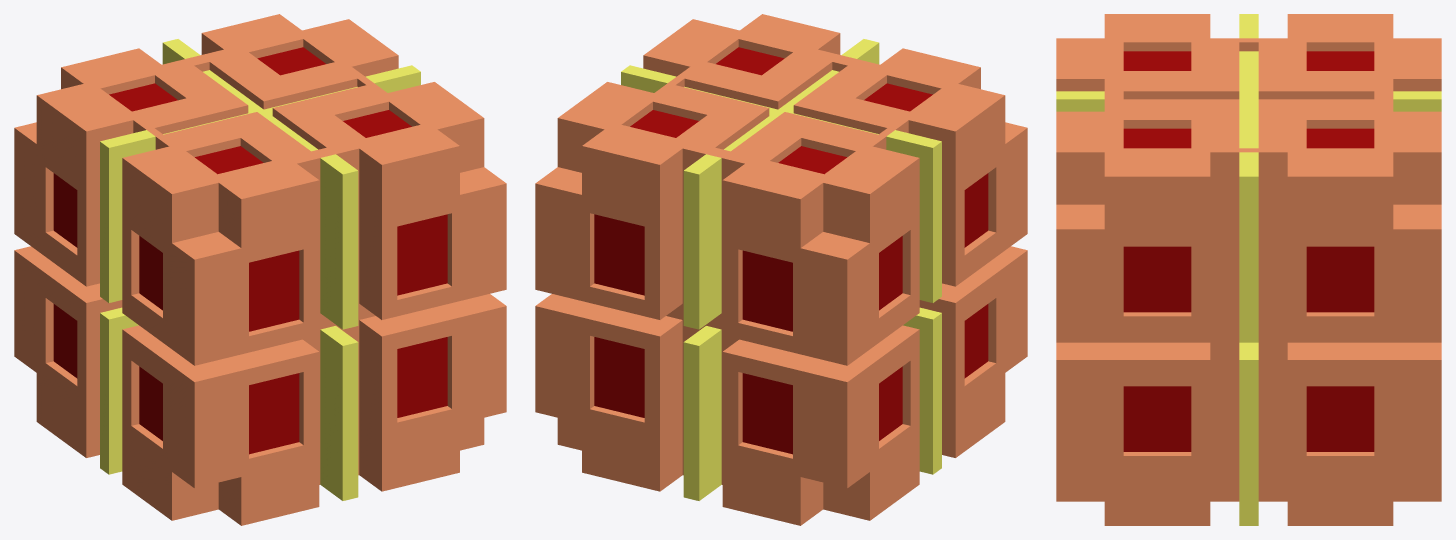
File: oneWay.obj
The picture shows the model from 3 angles, left to right: view 1: azimuth 30°, elevation 25°; view 2: azimuth 150°, elevation 25°; view 3: azimuth 270°, elevation 25°; orthographic projection. The views are drawn at different scales.
Bounding box in the file's own units: 4 × 4 × 4.
Materials: 1 (1 with a texture image).
